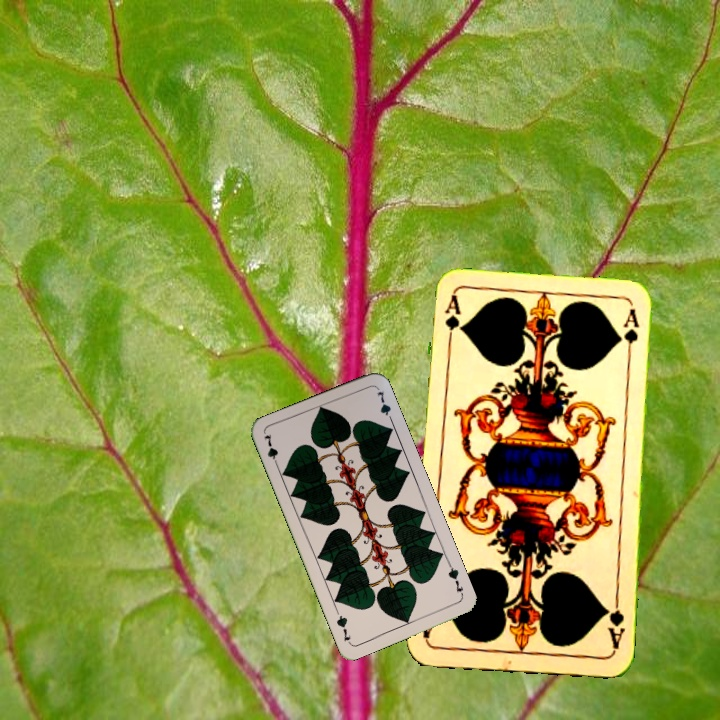G7: (259, 430, 281, 470), (444, 560, 466, 599)
GA: (601, 593, 628, 652), (441, 292, 462, 351)
